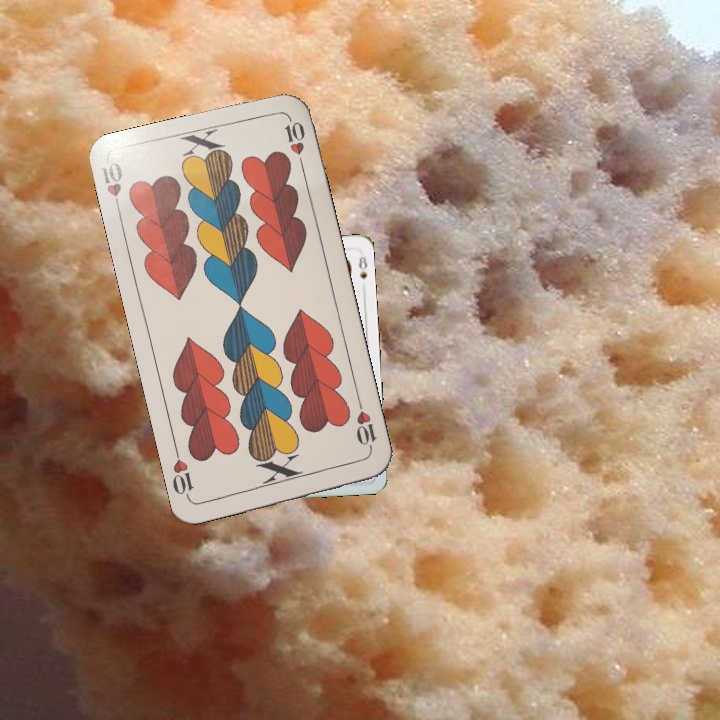H10: (97, 157, 125, 217), (352, 397, 380, 456)
